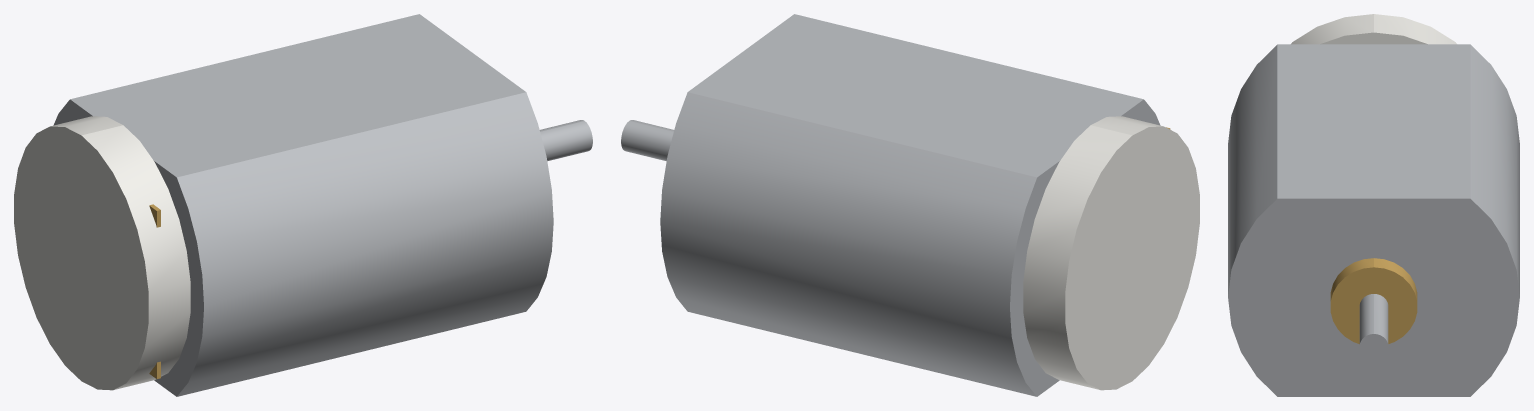
Rendered from motor-130-dc.glb.
3 views of the same model, side by side, from view 1: azimuth 30°, elevation 25°; view 2: azimuth 150°, elevation 25°; view 3: azimuth 270°, elevation 25° (orthographic). The views are drawn at different scales.
Parts seen in each view (by area): view 1: body, end_bell, shaft; view 2: body, end_bell, shaft; view 3: body, bushing, end_bell, shaft.
Boxes of the visible parts, <box> form: body: <box>53,14,553,396</box>; end_bell: <box>14,116,190,390</box>; shaft: <box>539,120,592,161</box>; body: <box>660,14,1160,396</box>; end_bell: <box>1023,116,1199,390</box>; shaft: <box>621,120,674,161</box>; body: <box>1228,44,1519,396</box>; bushing: <box>1330,258,1417,343</box>; end_bell: <box>1291,14,1456,44</box>; shaft: <box>1359,294,1388,360</box>.
Size of the model in its own units: 36 by 16.8 by 20.
